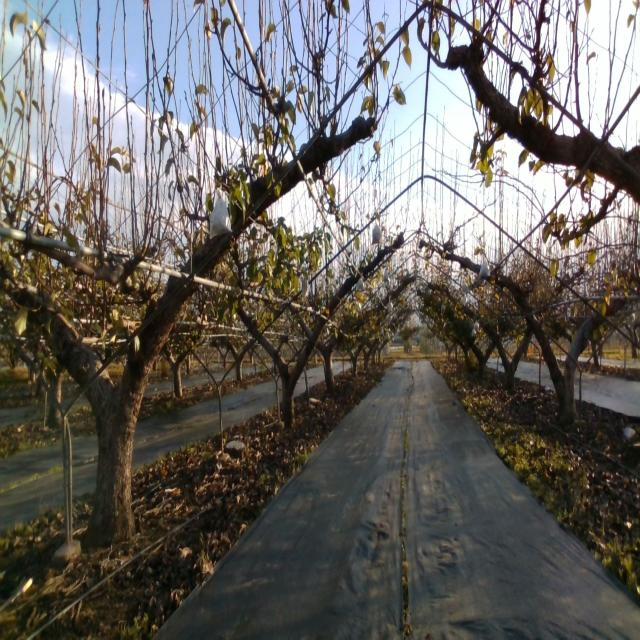pearbags: (208, 189, 232, 239), (371, 218, 384, 244), (479, 260, 491, 280)
